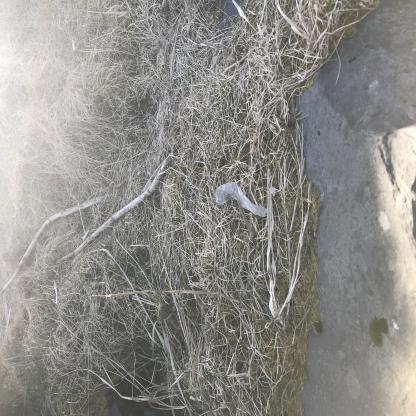trash: (145, 284, 178, 360)
